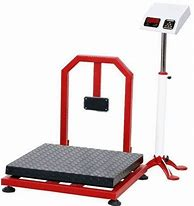Industrial Scale: (1, 2, 192, 206)
